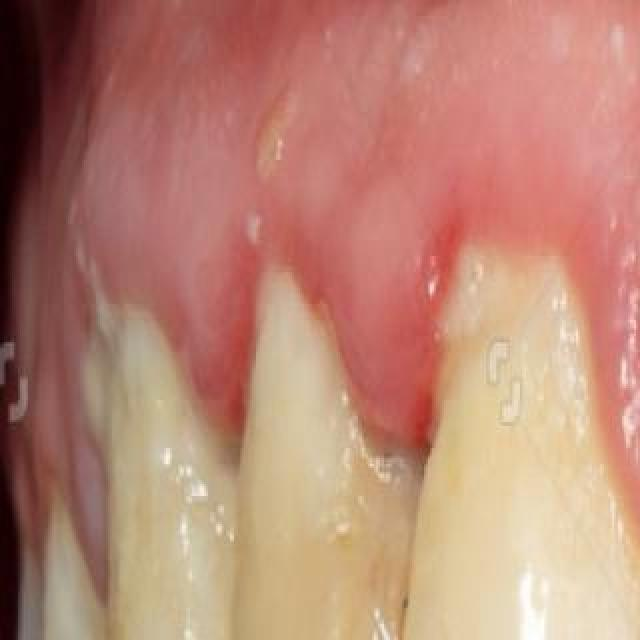calculus: (383, 225, 601, 463), (43, 325, 213, 533)
plaque: (302, 460, 420, 640)
